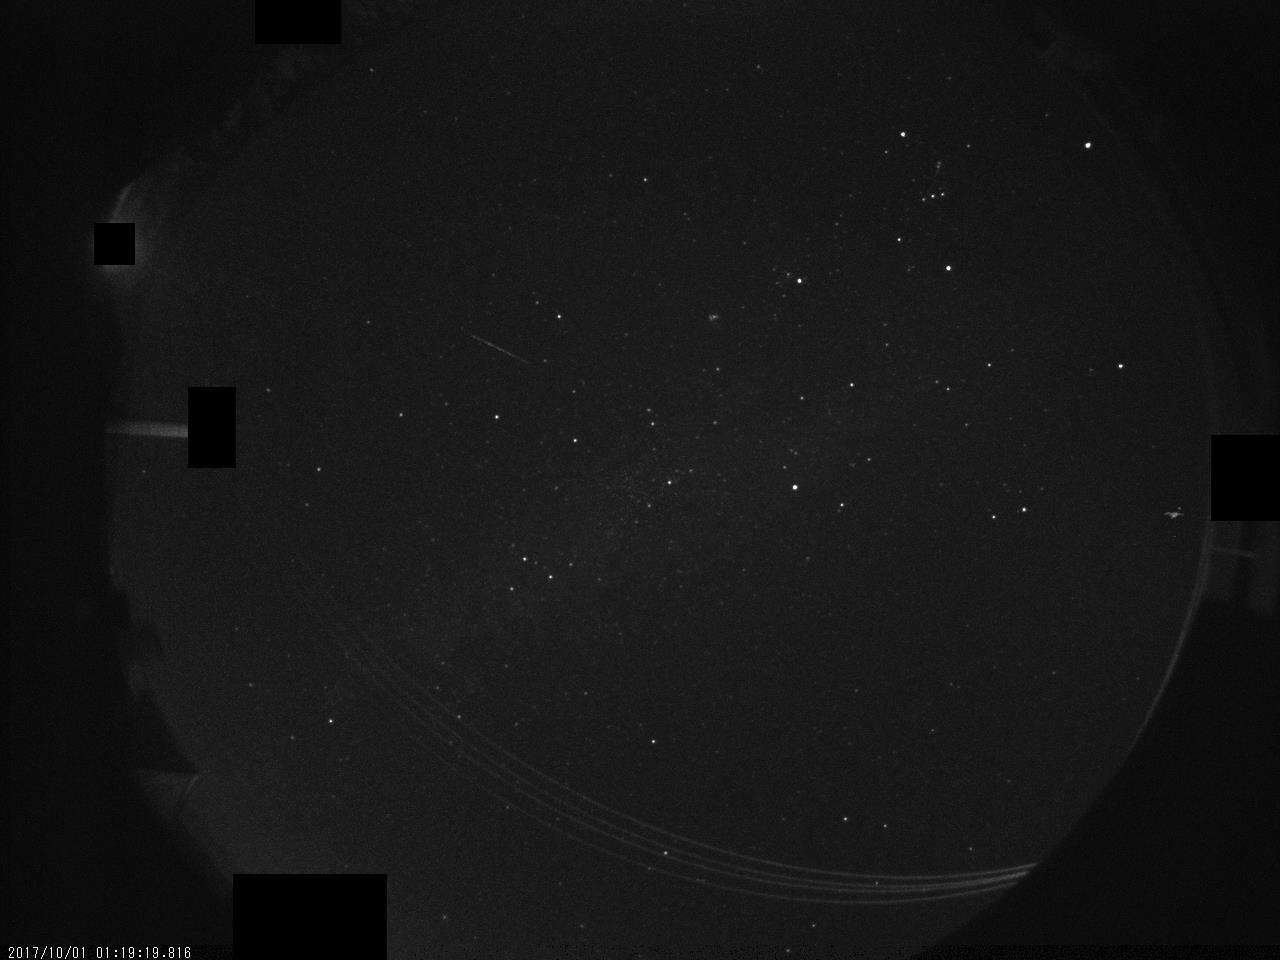TLE: (1153, 499, 1191, 552)
